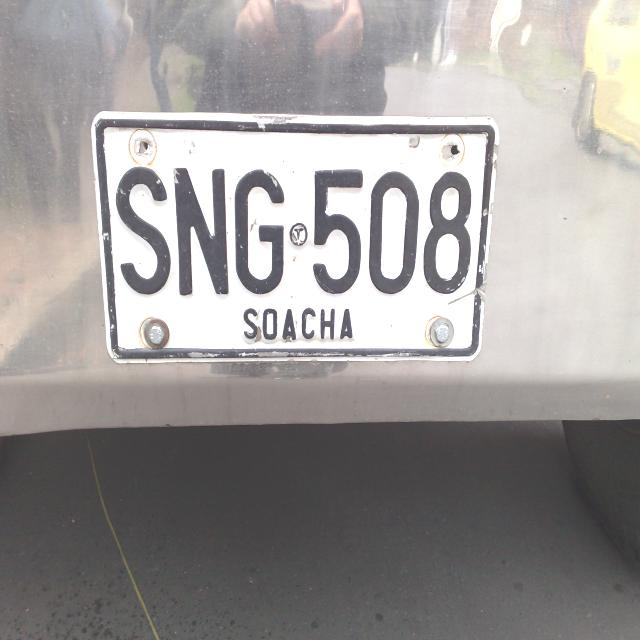placa: (87, 93, 503, 370)
